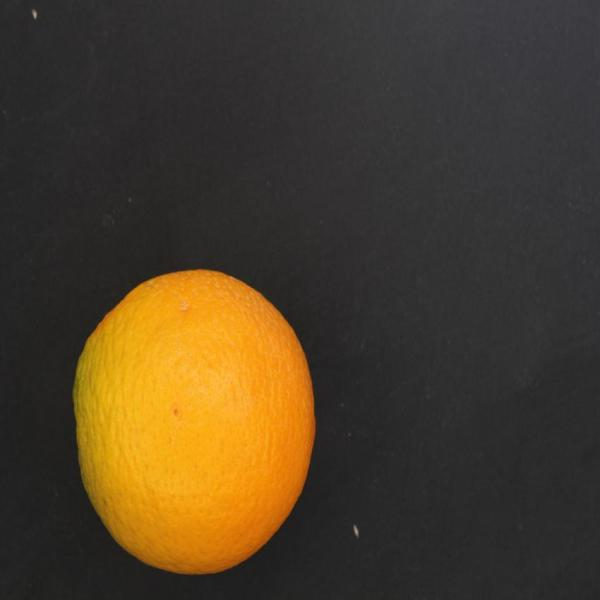Sana: (70, 256, 332, 583)
